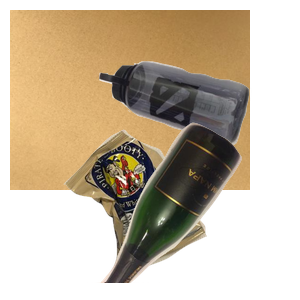cardboard: (10, 10, 250, 190)
glass: (87, 120, 300, 300)
plastic: (97, 59, 300, 197)
trash: (61, 127, 260, 300)
